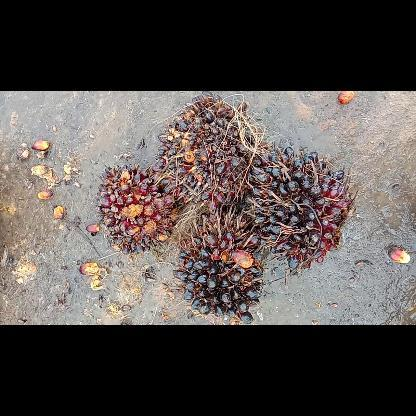TBS abnormal: (241, 142, 361, 272), (170, 207, 266, 324)
TBS masak: (150, 92, 268, 209), (93, 160, 184, 258)
